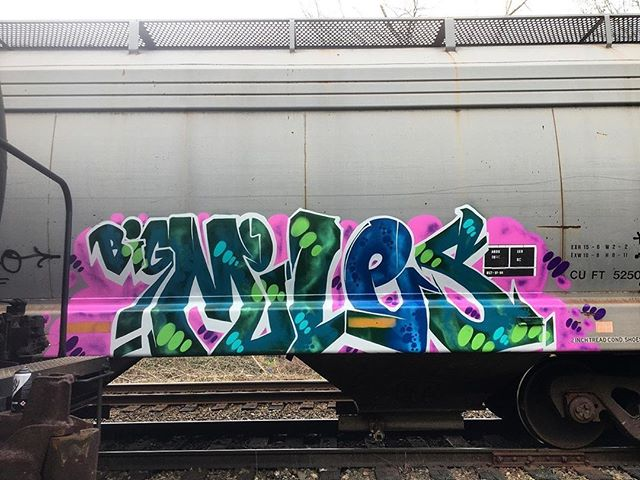sign: (87, 209, 576, 367)
train: (9, 43, 635, 407)
